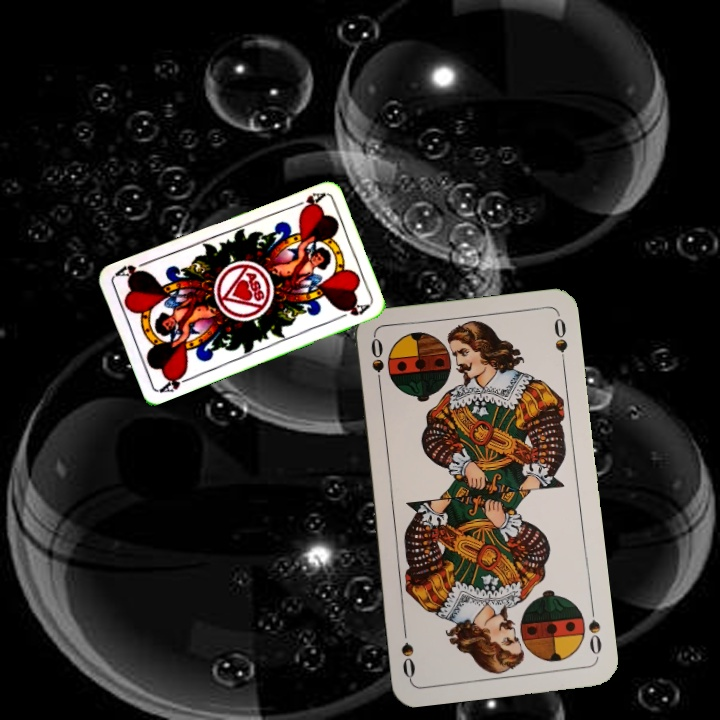HA: (156, 367, 196, 395), (287, 188, 327, 213)
SO: (366, 334, 387, 393), (584, 601, 604, 660)
